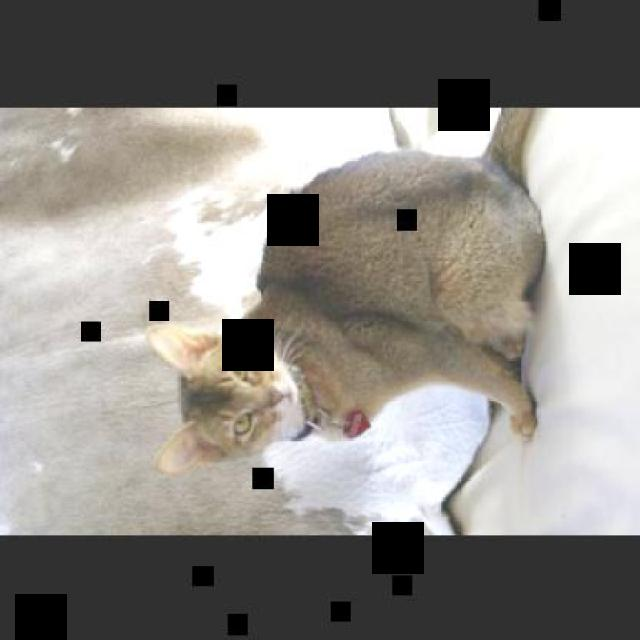unauthorized: (145, 107, 546, 476)
